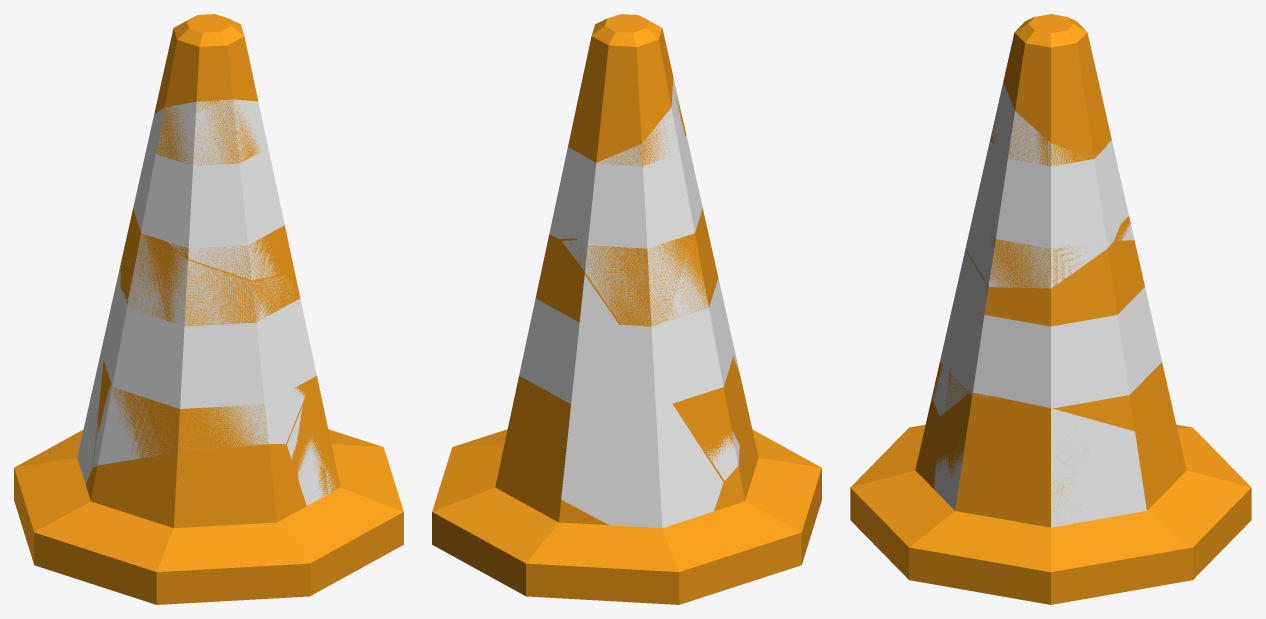
Rendered from Conus.fbx.
The picture shows the model from 3 angles, left to right: view 1: azimuth 30°, elevation 25°; view 2: azimuth 150°, elevation 25°; view 3: azimuth 270°, elevation 25°; orthographic projection.
Parts seen in each view (by area): view 1: Cylinder.030, Cylinder.030_cell, Cylinder.030_cell.002, Cylinder.030_cell.003, Cylinder.030_cell.001, Cylinder.030_cell.005, Cylinder.030_cell.004; view 2: Cylinder.030, Cylinder.030_cell.001, Cylinder.030_cell.004, Cylinder.030_cell.003, Cylinder.030_cell.002, Cylinder.030_cell, Cylinder.030_cell.005; view 3: Cylinder.030, Cylinder.030_cell.004, Cylinder.030_cell.003, Cylinder.030_cell.002, Cylinder.030_cell, Cylinder.030_cell.005, Cylinder.030_cell.001.
Boxes of the visible parts, <box> form: Cylinder.030: <box>17,14,403,604</box>; Cylinder.030_cell: <box>21,445,370,600</box>; Cylinder.030_cell.002: <box>93,225,305,467</box>; Cylinder.030_cell.003: <box>138,99,281,280</box>; Cylinder.030_cell.001: <box>14,323,107,520</box>; Cylinder.030_cell.005: <box>154,24,257,111</box>; Cylinder.030_cell.004: <box>287,407,398,534</box>; Cylinder.030: <box>432,14,821,603</box>; Cylinder.030_cell.001: <box>561,275,735,604</box>; Cylinder.030_cell.004: <box>434,411,604,599</box>; Cylinder.030_cell.003: <box>549,77,697,238</box>; Cylinder.030_cell.002: <box>562,226,739,480</box>; Cylinder.030_cell: <box>715,393,821,591</box>; Cylinder.030_cell.005: <box>568,24,672,159</box>; Cylinder.030: <box>850,14,1251,604</box>; Cylinder.030_cell.004: <box>889,392,1244,545</box>; Cylinder.030_cell.003: <box>965,82,1126,288</box>; Cylinder.030_cell.002: <box>933,221,1134,416</box>; Cylinder.030_cell: <box>851,400,939,525</box>; Cylinder.030_cell.005: <box>1006,21,1111,145</box>; Cylinder.030_cell.001: <box>1176,424,1230,466</box>.
Size of the model in its own units: 45.2 by 61.7 by 45.2.
